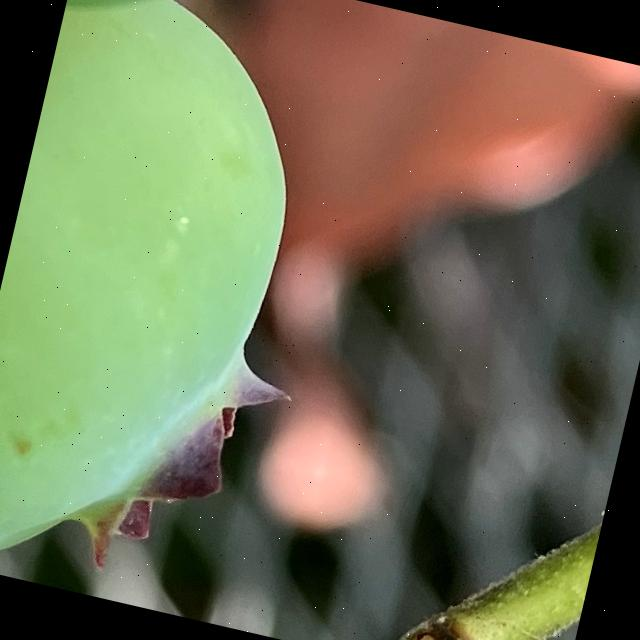Blueberries: (0, 0, 384, 631)
